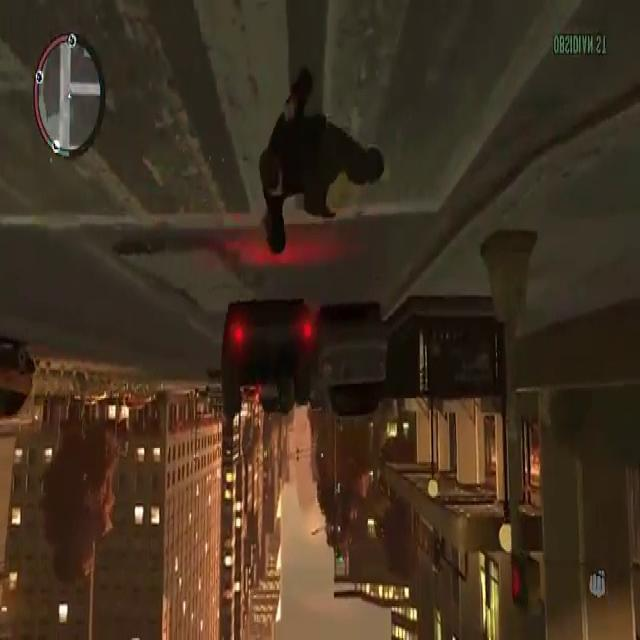severe: (221, 298, 324, 436)
